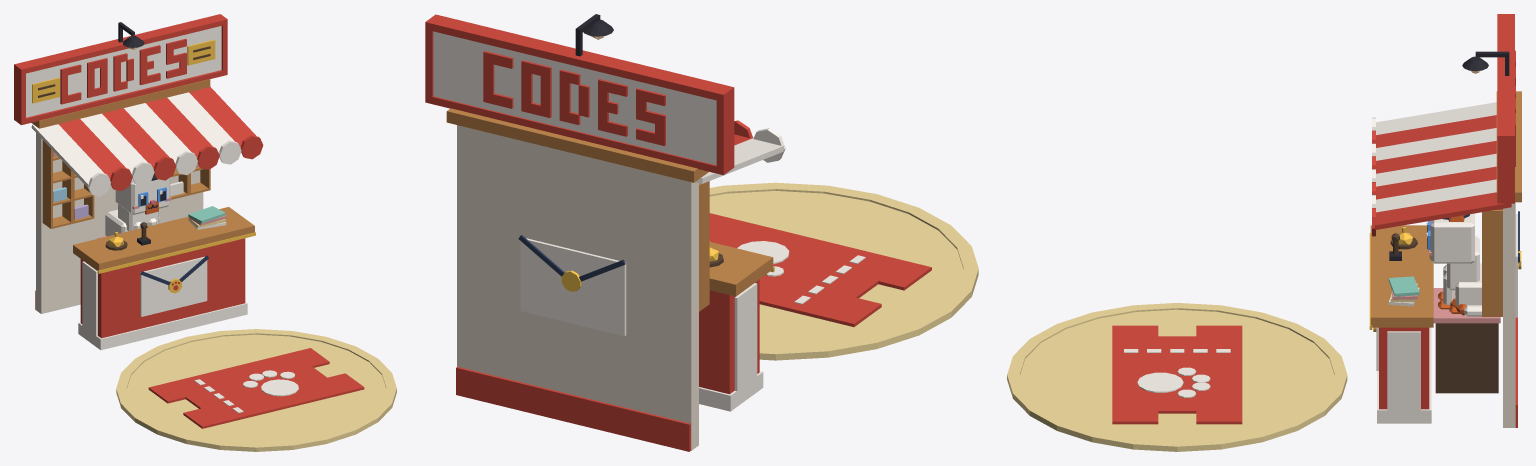
The model's file is CatCafe_Street_CodesCat.glb.
3 views of the same model, side by side, from view 1: azimuth 30°, elevation 25°; view 2: azimuth 150°, elevation 25°; view 3: azimuth 270°, elevation 25° (orthographic). The views are drawn at different scales.
Parts seen in each view (by area): view 1: CatCafe_Street_CodesCat, CatCafe_Street_CodesCat_CodesCircle, CatCafe_Street_CodesCat_Ticket_Decor, CatCafe_Street_CodesCat_Glow, CatCafe_Street_CodesCat_Cat_Head, CatCafe_Street_CodesCat_Cat_Body; view 2: CatCafe_Street_CodesCat, CatCafe_Street_CodesCat_CodesCircle, CatCafe_Street_CodesCat_Ticket_Decor, CatCafe_Street_CodesCat_Glow; view 3: CatCafe_Street_CodesCat, CatCafe_Street_CodesCat_CodesCircle, CatCafe_Street_CodesCat_Ticket_Decor, CatCafe_Street_CodesCat_Glow, CatCafe_Street_CodesCat_Cat_Head, CatCafe_Street_CodesCat_Cat_Body.
Boxes of the visible parts, x1=… form: CatCafe_Street_CodesCat: x1=14, y1=14, x2=263, y2=350; CatCafe_Street_CodesCat_CodesCircle: x1=127, y1=334, x2=386, y2=443; CatCafe_Street_CodesCat_Ticket_Decor: x1=148, y1=348, x2=364, y2=428; CatCafe_Street_CodesCat_Glow: x1=116, y1=329, x2=396, y2=451; CatCafe_Street_CodesCat_Cat_Head: x1=115, y1=177, x2=171, y2=214; CatCafe_Street_CodesCat_Cat_Body: x1=105, y1=204, x2=159, y2=236; CatCafe_Street_CodesCat: x1=425, y1=14, x2=785, y2=451; CatCafe_Street_CodesCat_CodesCircle: x1=709, y1=191, x2=963, y2=347; CatCafe_Street_CodesCat_Ticket_Decor: x1=709, y1=213, x2=931, y2=326; CatCafe_Street_CodesCat_Glow: x1=709, y1=182, x2=978, y2=360; CatCafe_Street_CodesCat: x1=1369, y1=14, x2=1521, y2=427; CatCafe_Street_CodesCat_CodesCircle: x1=1020, y1=309, x2=1334, y2=441; CatCafe_Street_CodesCat_Ticket_Decor: x1=1112, y1=325, x2=1242, y2=424; CatCafe_Street_CodesCat_Glow: x1=1007, y1=303, x2=1347, y2=451; CatCafe_Street_CodesCat_Cat_Head: x1=1429, y1=213, x2=1474, y2=263; CatCafe_Street_CodesCat_Cat_Body: x1=1447, y1=236, x2=1481, y2=313.
Bounding box in the file's own units: 8.1 × 8.6 × 12.25.
1 material, 1 textured.
